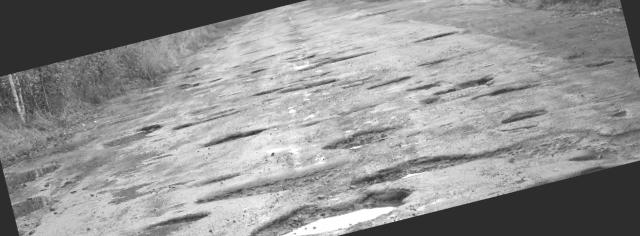Pothole: (350, 97, 640, 228), (193, 146, 381, 230), (247, 44, 419, 124), (237, 176, 410, 236), (320, 108, 410, 164), (165, 90, 257, 141), (480, 65, 550, 129), (416, 60, 506, 106), (100, 202, 221, 236), (200, 116, 268, 151), (411, 14, 478, 48)
